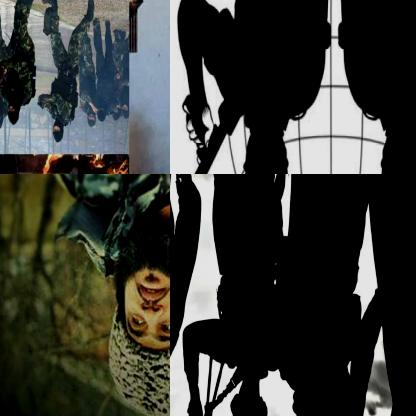pistol: (36, 90, 46, 111)
rifle: (170, 98, 245, 173), (170, 352, 225, 415)
